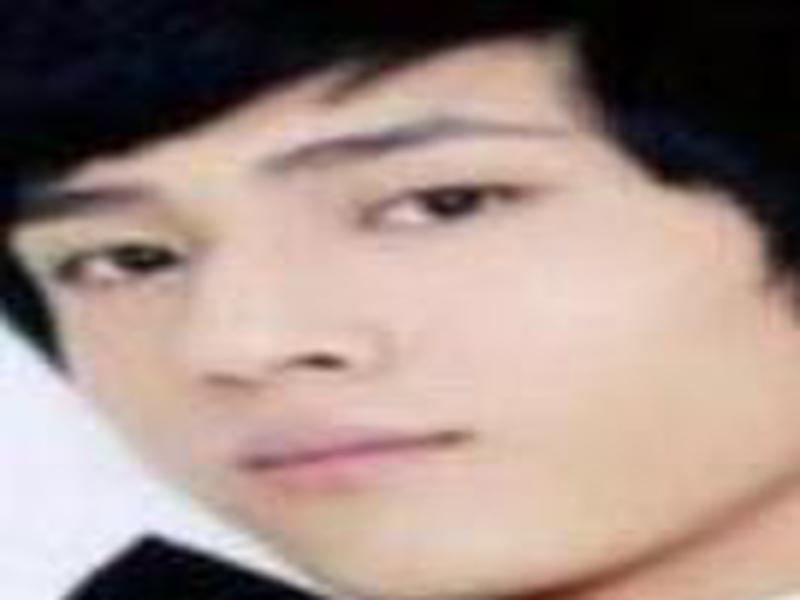without_mask: (19, 80, 783, 587)
